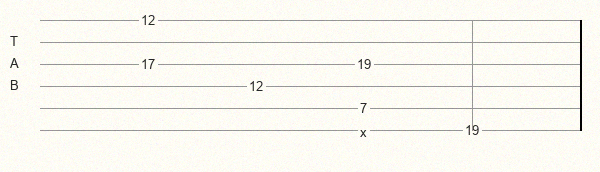12: (141, 13, 159, 27), (249, 79, 267, 93)
17: (141, 57, 159, 71)
19: (357, 57, 375, 71), (465, 123, 483, 137)
7: (360, 101, 371, 115)
x: (360, 125, 371, 136)
